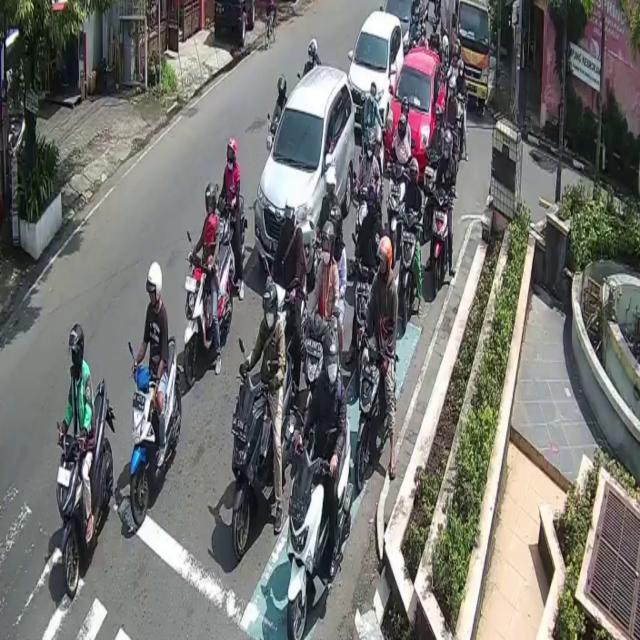car: (255, 63, 356, 273), (386, 46, 446, 180), (350, 9, 404, 125), (387, 0, 425, 52)
motorbike: (287, 411, 353, 640), (56, 378, 113, 598), (233, 360, 295, 559), (130, 332, 182, 527), (181, 240, 231, 385), (359, 343, 399, 489), (397, 212, 418, 333), (430, 191, 450, 300)
truck: (438, 0, 489, 115)
